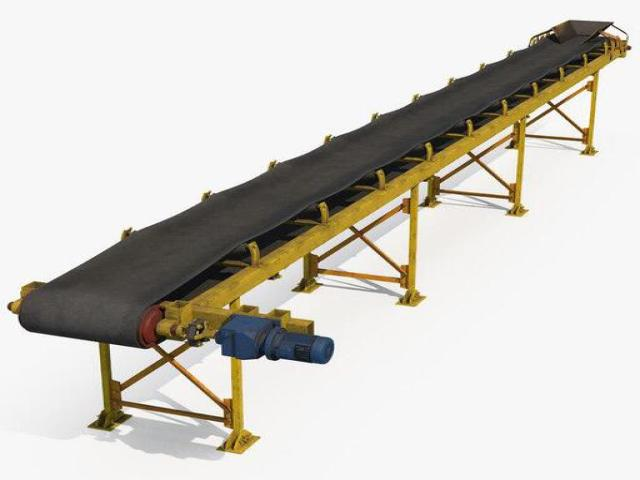conveyor: (9, 20, 628, 382)
